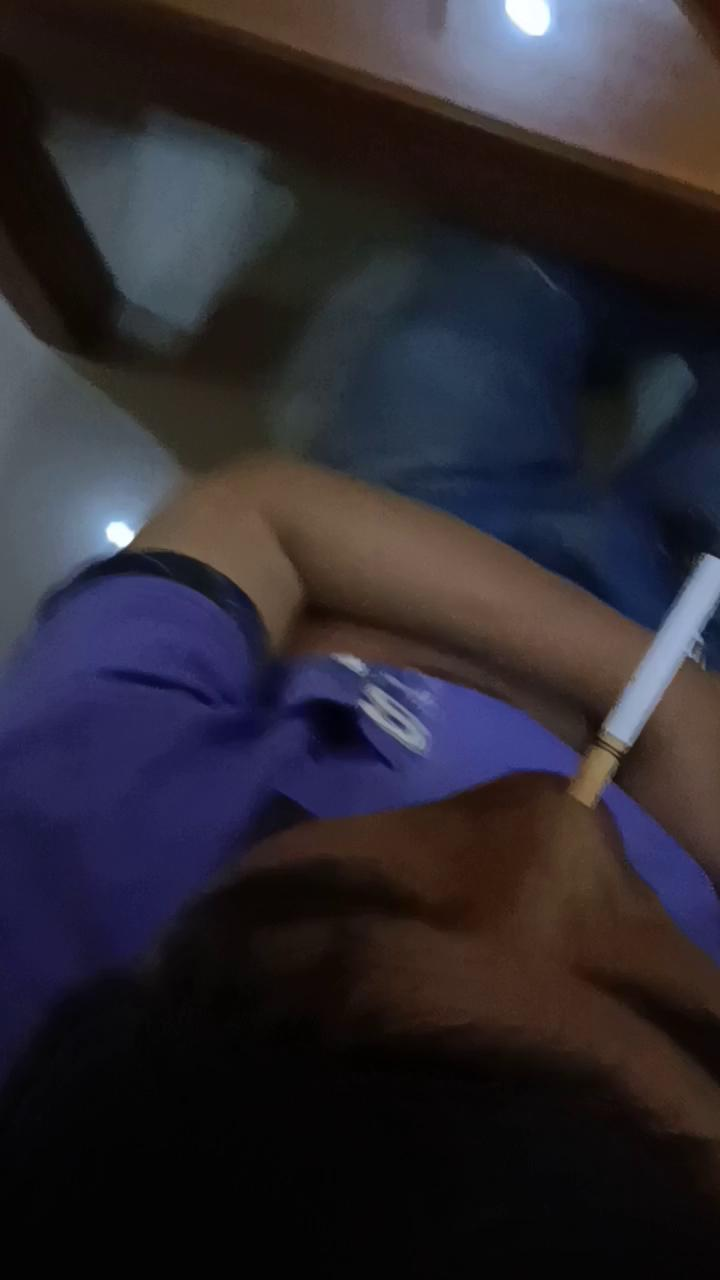smoke: (575, 552, 720, 810)
